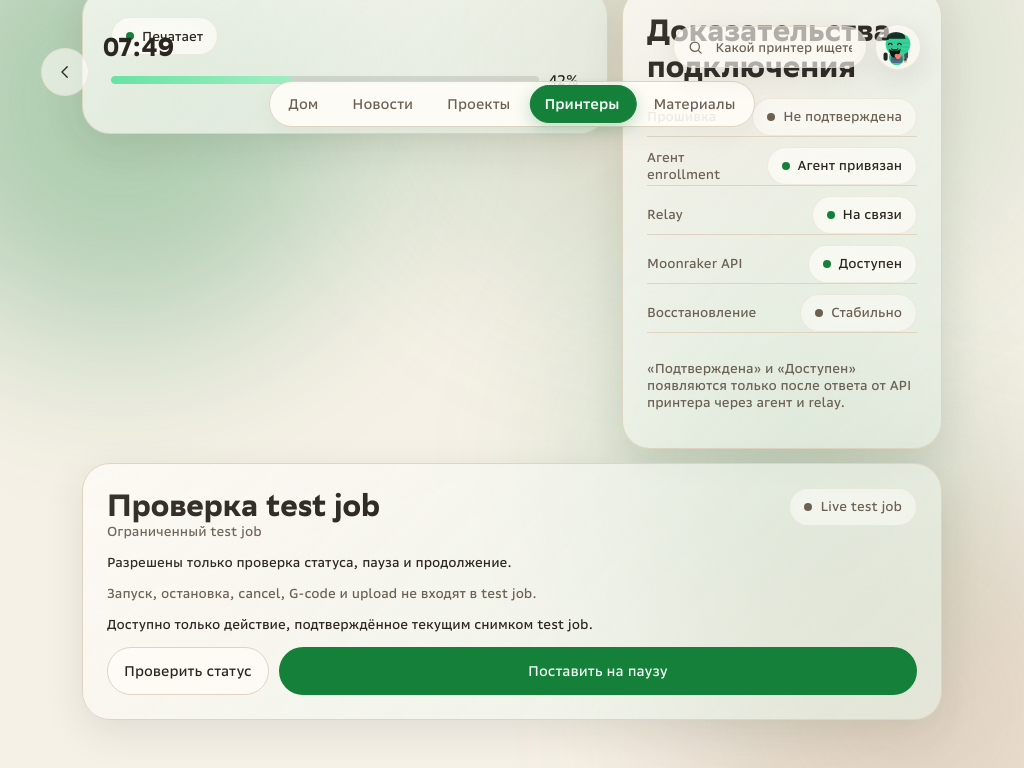
Scenario: PrinterLiveScreen — состояния доступности источника › показывает безопасную причину отказа без автоматического повтора
(page scrolled)
Click the button "Поставить на паузу" at (598, 671), box [279,647,917,695]
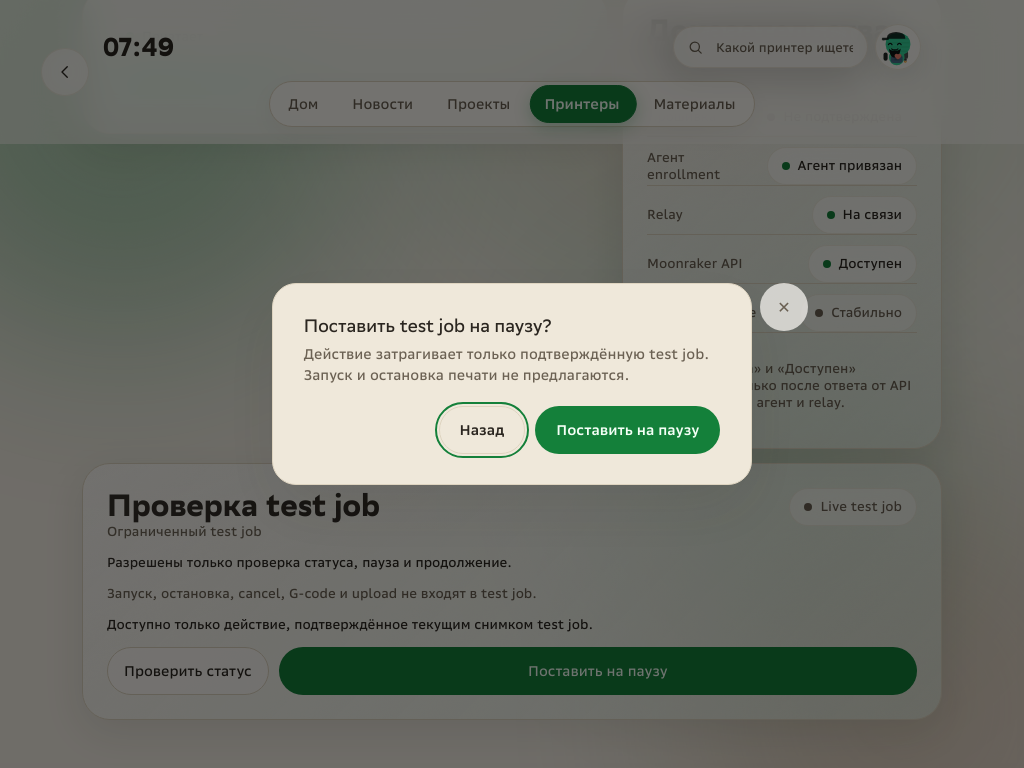
Click the button "Поставить на паузу" at (628, 430), box [535,406,720,454]
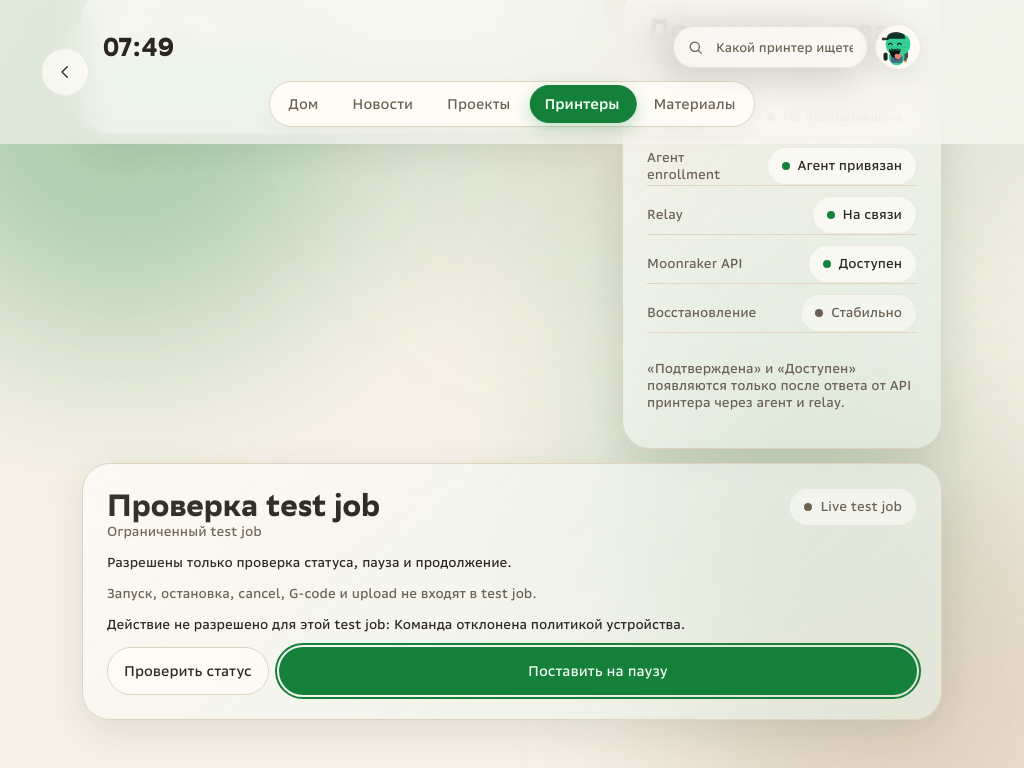
Check: the message reads "Действие не разрешено для этой test job: Команда отклонена политикой устройства.", box [107,616,685,633]
